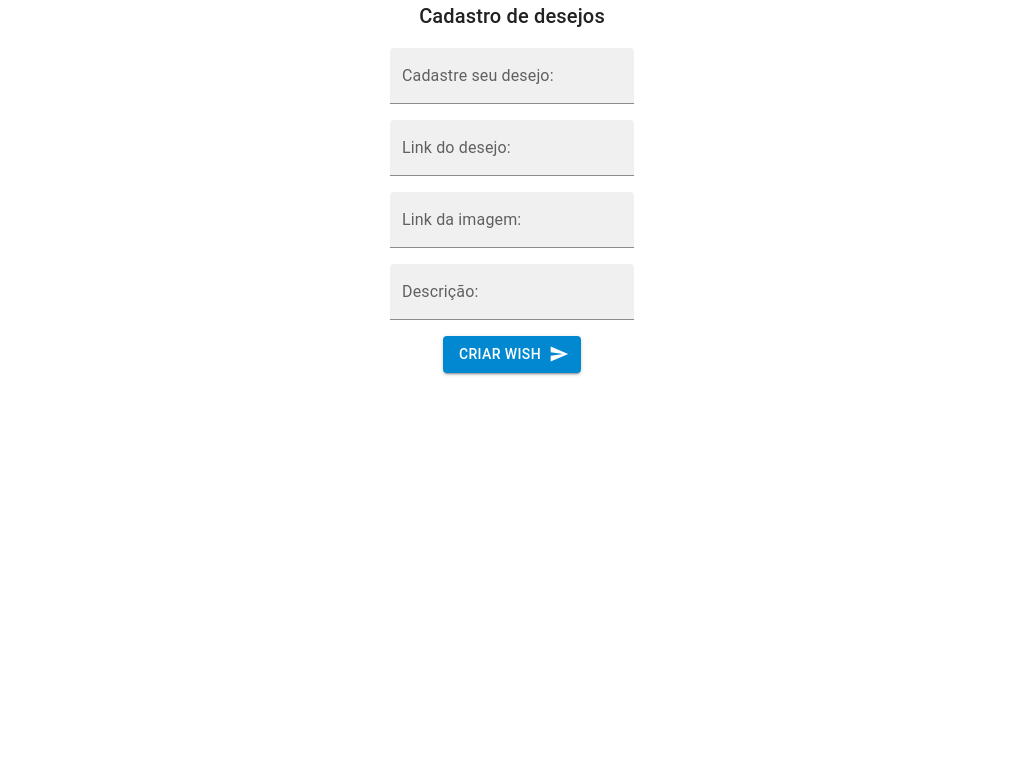
Test: admin page › should create a wish
Step 1. Type "Jogo de facas" into the field with placeholder "Ex: Jogo de facas" → (512, 76), box [390,48,634,104]
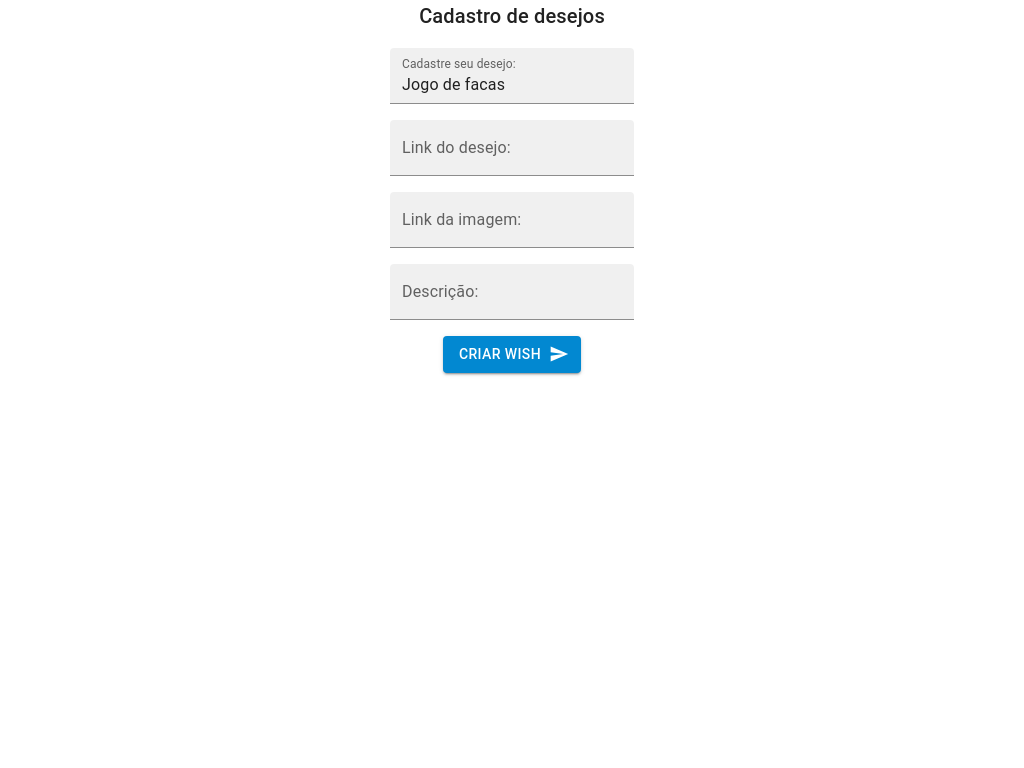
Step 2. Type "https://www.amazon.com.br/dp/B0B4V7CCW3?ref_=Oct_DLandingS_D_3354e7d7_NA" into the field with placeholder "Ex: link do produto" → (512, 148), box [390,120,634,176]
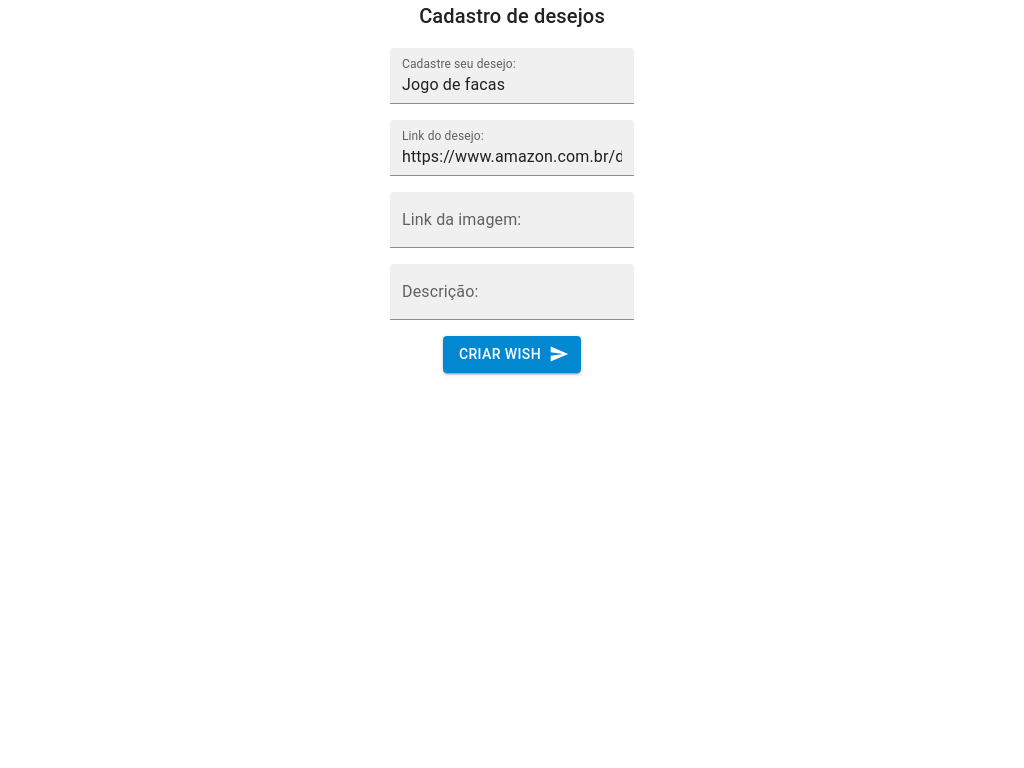
Step 3. Type "https://w1tdk9ltnx.map.azionedge.net/img/2022/12/produto/13333/faca-h22259.jpg?ims=fit-in/635x865/filters:fill(white):format(JPG)" into the field with placeholder "Coloque a url da imagem" → (512, 220), box [390,192,634,248]
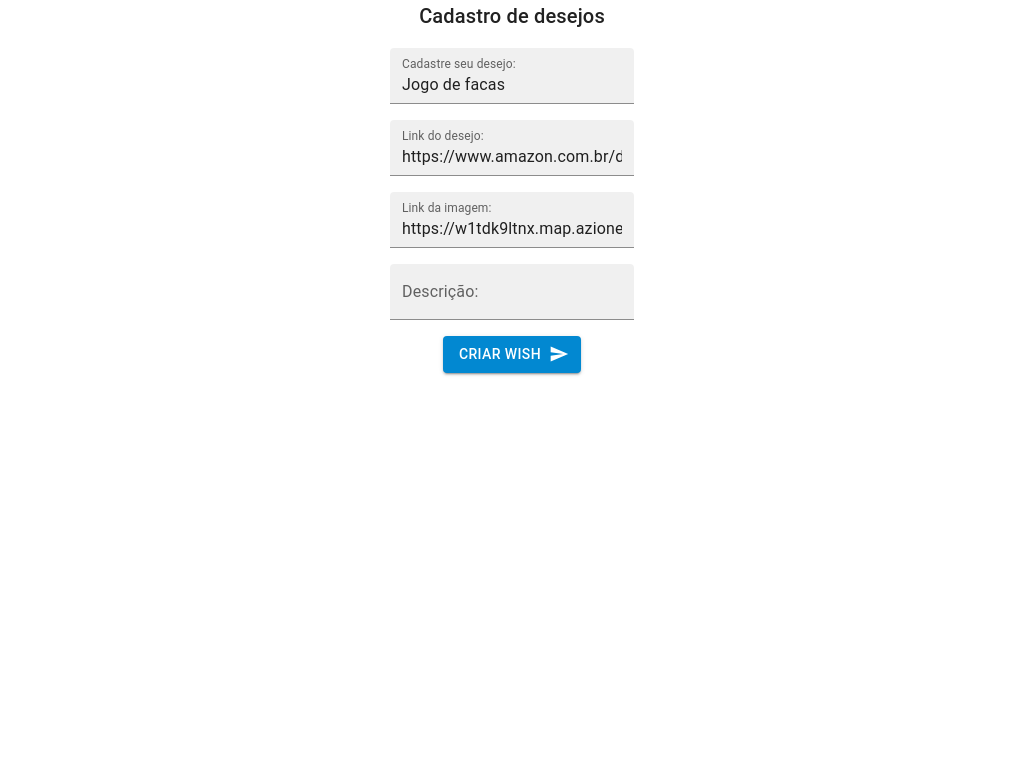
Step 4. Type "Muito bom" into the field with placeholder "Descrição do produto" → (512, 292), box [390,264,634,320]
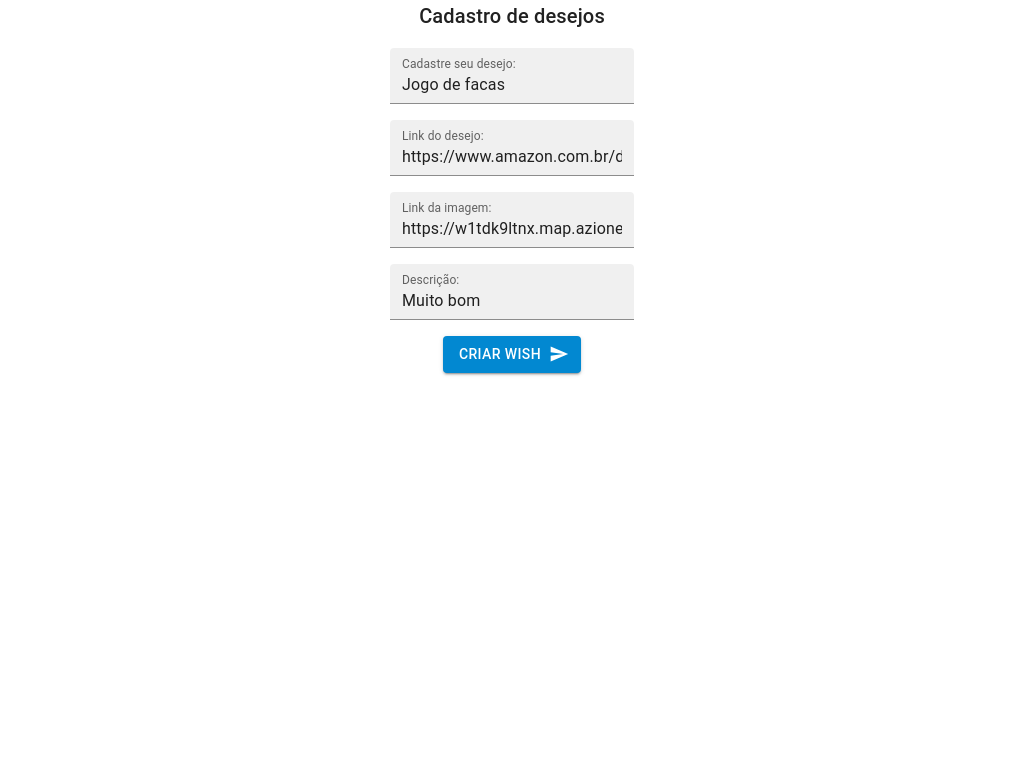
Step 5. Click the button "Criar wish" → click(512, 354), box [443,336,581,372]
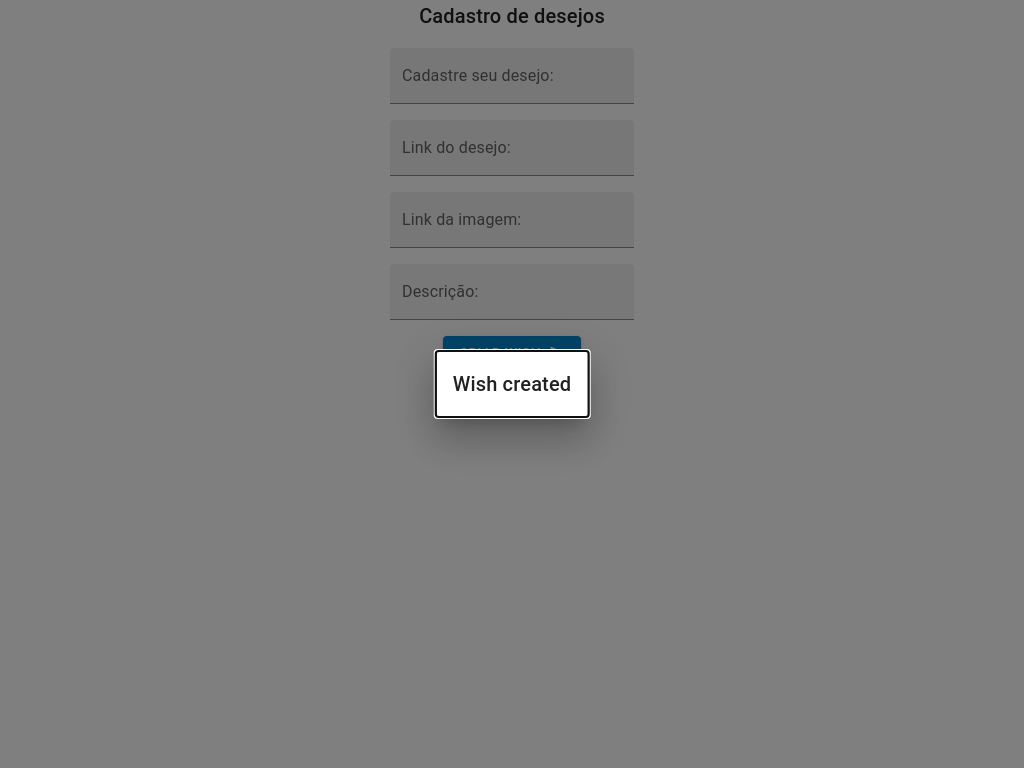
Expected: the heading "Wish created" is shown, [453,368,571,400]
